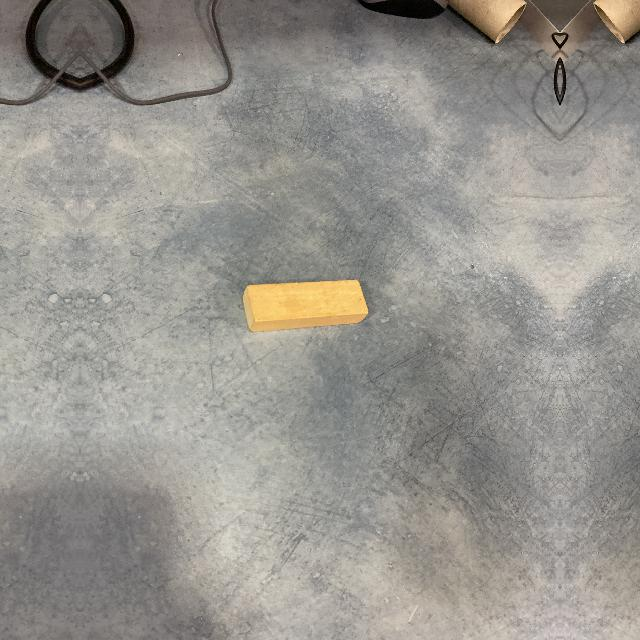jenga: (242, 278, 368, 332)
